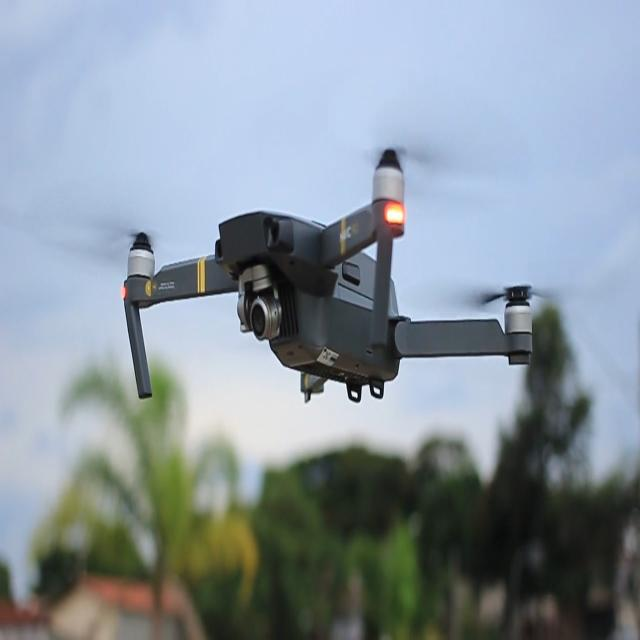drone: (25, 108, 589, 404)
